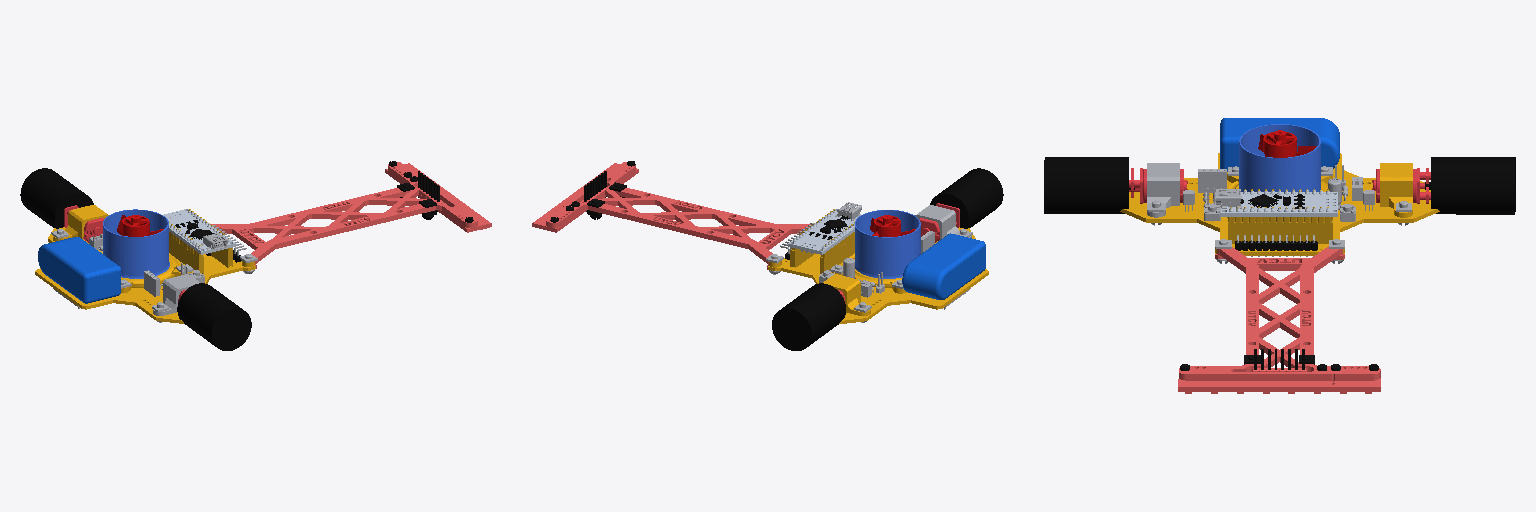
URDF robot description (Untitled):
<?xml version='1.0' encoding='utf-8'?>
<!--
  Line follower robot.

  Frames:
    base_link  = centre of the wheel axle, +x = FRONT (the sensor-bar end), +y = left, z up.
    body_link  = the original CAD frame of the meshes. It is turned 180 degrees
                 relative to base_link (see body_joint), which is why the meshes,
                 wheels and casters below are written in the old CAD coordinates.
    Everything is merged into one rigid body by Gazebo (fixed joints are lumped).

  Dimensions measured from the STL meshes:
    wheel radius = 0.0105 m, wheel width = 0.0333 m,
    wheel separation (centre to centre) = 0.140 m,
    ground level = 0.0105 m below base_link (bottom of the wheels).

  Wheel direction:
    Both wheel joints are set up so that a POSITIVE velocity drives the robot
    toward the sensor bar (+x of base_link).

  Casters:
    Two ball casters (caster_pos_x / caster_neg_x) sit under the two ends of the board,
    on its centre line (y = -0.0129), so the robot rests on 4 points.
-->
<robot name="Untitled">

    <!-- ===================== COLOURS ===================== -->
    <material name="c_arm">          <color rgba="0.96 0.42 0.42 1" /></material>  <!-- sensor bar + truss arm -->
    <material name="c_pcb">          <color rgba="0.96 0.72 0.12 1" /></material>  <!-- main yellow board -->
    <material name="c_motors">       <color rgba="0.92 0.30 0.34 1" /></material>
    <material name="c_battery">      <color rgba="0.12 0.45 0.90 1" /></material>
    <material name="c_fan_housing">  <color rgba="0.30 0.50 0.95 0.6" /></material>  <!-- translucent blue -->
    <material name="c_fan_impeller"> <color rgba="0.85 0.10 0.10 1" /></material>
    <material name="c_fan_base">     <color rgba="0.85 0.12 0.12 1" /></material>
    <material name="c_nano_board">   <color rgba="0.80 0.84 0.90 1" /></material>
    <material name="c_black">        <color rgba="0.10 0.10 0.10 1" /></material>
    <material name="c_gold">         <color rgba="0.85 0.65 0.13 1" /></material>
    <material name="c_silver">       <color rgba="0.72 0.73 0.76 1" /></material>

    <!-- ===================== BASE ===================== -->
    <!-- Root frame: centre of the wheel axle, +x pointing to the sensor bar -->
    <link name="base_link" />

    <!-- body_link (CAD frame) is turned 180 deg about z and moved so base_link sits at the axle centre -->
    <joint name="body_joint" type="fixed">
        <parent link="base_link" />
        <child link="body_link" />
        <origin xyz="0.06586035 -0.01294921 -0.00278078" rpy="0 0 3.14159265359" />
    </joint>

    <link name="body_link">
        <inertial>
            <origin xyz="0.0497100684 -0.0129209646 0.00202155445" rpy="0 0 0" />
            <mass value="0.0466385593" />
            <inertia ixx="2.70721052e-05" iyy="1.46734543e-04" izz="1.71141810e-04"
                     ixy="-1.06437045e-06" iyz="-6.15719036e-08" ixz="-4.31754903e-06" />
        </inertial>
        <!-- The body mesh was split into one STL per colour (meshes/base_<part>.stl).
             All parts share the original mesh frame, so they use the same origin
             and together are identical to the old meshes/base_link.stl. -->
        <visual name="base_arm_visual">
            <origin xyz="0.0407051062 -0.0161456168 -0.00761921847" rpy="0 0 0" />
            <geometry><mesh filename="meshes/base_arm.stl" scale="0.001 0.001 0.001" /></geometry>
            <material name="c_arm" />
        </visual>
        <visual name="base_pcb_visual">
            <origin xyz="0.0407051062 -0.0161456168 -0.00761921847" rpy="0 0 0" />
            <geometry><mesh filename="meshes/base_pcb.stl" scale="0.001 0.001 0.001" /></geometry>
            <material name="c_pcb" />
        </visual>
        <visual name="base_motors_visual">
            <origin xyz="0.0407051062 -0.0161456168 -0.00761921847" rpy="0 0 0" />
            <geometry><mesh filename="meshes/base_motors.stl" scale="0.001 0.001 0.001" /></geometry>
            <material name="c_motors" />
        </visual>
        <visual name="base_battery_visual">
            <origin xyz="0.0407051062 -0.0161456168 -0.00761921847" rpy="0 0 0" />
            <geometry><mesh filename="meshes/base_battery.stl" scale="0.001 0.001 0.001" /></geometry>
            <material name="c_battery" />
        </visual>
        <visual name="base_fan_housing_visual">
            <origin xyz="0.0407051062 -0.0161456168 -0.00761921847" rpy="0 0 0" />
            <geometry><mesh filename="meshes/base_fan_housing.stl" scale="0.001 0.001 0.001" /></geometry>
            <material name="c_fan_housing" />
        </visual>
        <visual name="base_fan_impeller_visual">
            <origin xyz="0.0407051062 -0.0161456168 -0.00761921847" rpy="0 0 0" />
            <geometry><mesh filename="meshes/base_fan_impeller.stl" scale="0.001 0.001 0.001" /></geometry>
            <material name="c_fan_impeller" />
        </visual>
        <visual name="base_fan_base_visual">
            <origin xyz="0.0407051062 -0.0161456168 -0.00761921847" rpy="0 0 0" />
            <geometry><mesh filename="meshes/base_fan_base.stl" scale="0.001 0.001 0.001" /></geometry>
            <material name="c_fan_base" />
        </visual>
        <visual name="base_nano_board_visual">
            <origin xyz="0.0407051062 -0.0161456168 -0.00761921847" rpy="0 0 0" />
            <geometry><mesh filename="meshes/base_nano_board.stl" scale="0.001 0.001 0.001" /></geometry>
            <material name="c_nano_board" />
        </visual>
        <visual name="base_black_visual">
            <origin xyz="0.0407051062 -0.0161456168 -0.00761921847" rpy="0 0 0" />
            <geometry><mesh filename="meshes/base_black.stl" scale="0.001 0.001 0.001" /></geometry>
            <material name="c_black" />
        </visual>
        <visual name="base_gold_visual">
            <origin xyz="0.0407051062 -0.0161456168 -0.00761921847" rpy="0 0 0" />
            <geometry><mesh filename="meshes/base_gold.stl" scale="0.001 0.001 0.001" /></geometry>
            <material name="c_gold" />
        </visual>
        <visual name="base_silver_visual">
            <origin xyz="0.0407051062 -0.0161456168 -0.00761921847" rpy="0 0 0" />
            <geometry><mesh filename="meshes/base_silver.stl" scale="0.001 0.001 0.001" /></geometry>
            <material name="c_silver" />
        </visual>

        <!-- The body mesh is NOT used for collision: its underside sits at the same
             height as the bottom of the wheels, so it would drag on the ground.
             Two small ball casters replace it as the 3rd/4th support points. -->
        <collision name="caster_neg_x_collision">
            <origin xyz="-0.09 -0.0129 -0.0046" rpy="0 0 0" />
            <geometry>
                <sphere radius="0.003" />
            </geometry>
        </collision>
        <collision name="caster_pos_x_collision">
            <origin xyz="0.095 -0.0129 -0.0046" rpy="0 0 0" />
            <geometry>
                <sphere radius="0.003" />
            </geometry>
        </collision>
        <visual name="caster_neg_x_visual">
            <origin xyz="-0.09 -0.0129 -0.0046" rpy="0 0 0" />
            <geometry>
                <sphere radius="0.003" />
            </geometry>
            <material name="caster_material">
                <color rgba="0.7 0.7 0.7 1" />
            </material>
        </visual>
        <visual name="caster_pos_x_visual">
            <origin xyz="0.095 -0.0129 -0.0046" rpy="0 0 0" />
            <geometry>
                <sphere radius="0.003" />
            </geometry>
            <material name="caster_material">
                <color rgba="0.7 0.7 0.7 1" />
            </material>
        </visual>
    </link>

    <!-- ===================== RIGHT WHEEL ===================== -->
    <link name="right_wheel_1">
        <inertial>
            <origin xyz="-1.1737347e-07 -9.4239375e-09 0.0179253936" rpy="0 0 0" />
            <mass value="0.0106464006" />
            <inertia ixx="1.13505775e-06" iyy="1.13505656e-06" izz="5.89875705e-07"
                     ixy="1.1605346e-13" iyz="-1.7808156e-12" ixz="-1.8415707e-11" />
        </inertial>
        <visual name="right_wheel_1_visual">
            <origin xyz="0.0251530744 -0.0103999985 -0.0612858878" rpy="1.5707963268 -0.000674994428 3.14159265359" />
            <geometry>
                <mesh filename="meshes/right_wheel_1.stl" scale="0.001 0.001 0.001" />
            </geometry>
            <material name="wheel_material">
                <color rgba="0.08 0.08 0.08 1" />
            </material>
        </visual>
        <collision name="right_wheel_1_collision">
            <origin xyz="0.0251530744 -0.0103999985 -0.0612858878" rpy="1.5707963268 -0.000674994428 3.14159265359" />
            <geometry>
                <mesh filename="meshes/right_wheel_1.stl" scale="0.001 0.001 0.001" />
            </geometry>
        </collision>
    </link>

    <!-- ===================== LEFT WHEEL ===================== -->
    <link name="left_wheel_1">
        <inertial>
            <origin xyz="-1.15095803e-07 -1.24765479e-08 0.0179253894" rpy="0 0 0" />
            <mass value="0.0106464006" />
            <inertia ixx="1.13505775e-06" iyy="1.13505656e-06" izz="5.89875705e-07"
                     ixy="1.1605346e-13" iyz="-1.7808156e-12" ixz="-1.8415707e-11" />
        </inertial>
        <visual name="left_wheel_1_visual">
            <origin xyz="0.0251530767 0.0103999985 -0.0548591165" rpy="-1.5707963268 0.000674994428 3.14159265359" />
            <geometry>
                <mesh filename="meshes/left_wheel_1.stl" scale="0.001 0.001 0.001" />
            </geometry>
            <material name="wheel_material">
                <color rgba="0.08 0.08 0.08 1" />
            </material>
        </visual>
        <collision name="left_wheel_1_collision">
            <origin xyz="0.0251530767 0.0103999985 -0.0548591165" rpy="-1.5707963268 0.000674994428 3.14159265359" />
            <geometry>
                <mesh filename="meshes/left_wheel_1.stl" scale="0.001 0.001 0.001" />
            </geometry>
        </collision>
    </link>

    <!-- ===================== JOINTS ===================== -->
    <!-- Right wheel (positions are in body_link / CAD coordinates).
         Axis flipped so that positive rotation drives toward the sensor bar. -->
    <joint name="right_wheel_joint" type="continuous">
        <origin xyz="0.06589637 0.04042328 0.00278078" rpy="1.5707963268 0 3.14091765916" />
        <parent link="body_link" />
        <child link="right_wheel_1" />
        <axis xyz="0 0 -1" />
        <dynamics damping="0.0005" friction="0.0" />
    </joint>

    <!-- Left wheel: same, so both wheels drive toward the sensor bar for positive velocity -->
    <joint name="left_wheel_joint" type="continuous">
        <origin xyz="0.06582432 -0.0663217 0.00278078" rpy="-1.5707963268 0 3.14091765916" />
        <parent link="body_link" />
        <child link="left_wheel_1" />
        <axis xyz="0 0 1" />
        <dynamics damping="0.0005" friction="0.0" />
    </joint>

    <!-- ===================== GAZEBO SURFACE PROPERTIES ===================== -->
    <!-- body_link only collides through the caster balls: make them frictionless -->
    <gazebo reference="body_link">
        <mu1>0.0</mu1>
        <mu2>0.0</mu2>
    </gazebo>
    <gazebo reference="right_wheel_1">
        <mu1>1.0</mu1>
        <mu2>1.0</mu2>
    </gazebo>
    <gazebo reference="left_wheel_1">
        <mu1>1.0</mu1>
        <mu2>1.0</mu2>
    </gazebo>

    <!-- ===================== LINE SENSOR ARRAY ===================== -->
    <!-- Virtual line sensor: a small camera looking straight down at the floor just
         in front of the sensor bar. The node line_sensor_node.py reads this image
         and turns it into an N-element reflectance array (like a QTR sensor bar).
         Camera frame: x = down, image up = +x (front), image left = +y (robot left).
         Footprint on the floor is ~80 mm wide, which covers the 74 mm bar. -->
    <link name="camera_link" />
    <joint name="camera_joint" type="fixed">
        <parent link="base_link" />
        <child link="camera_link" />
        <origin xyz="0.178 0 0.0372" rpy="0 1.5707963268 0" />
    </joint>

    <gazebo reference="camera_link">
        <sensor name="line_camera" type="camera">
            <always_on>true</always_on>
            <update_rate>60</update_rate>
            <topic>line_camera/image</topic>
            <camera>
                <horizontal_fov>1.396</horizontal_fov>
                <image>
                    <width>160</width>
                    <height>16</height>
                    <format>R8G8B8</format>
                </image>
                <clip>
                    <near>0.01</near>
                    <far>0.5</far>
                </clip>
            </camera>
        </sensor>
    </gazebo>

    <!-- ===================== GAZEBO PLUGINS ===================== -->
    <gazebo>
        <!-- Differential drive: listens to /cmd_vel (geometry_msgs/Twist), publishes /odom and odom->base_link TF.
             Forward = +x of base_link = the sensor-bar end. -->
        <plugin filename="ignition-gazebo-diff-drive-system" name="ignition::gazebo::systems::DiffDrive">
            <left_joint>left_wheel_joint</left_joint>
            <right_joint>right_wheel_joint</right_joint>
            <wheel_separation>0.140</wheel_separation>
            <wheel_radius>0.0105</wheel_radius>
            <max_linear_acceleration>1.0</max_linear_acceleration>
            <max_angular_acceleration>3.0</max_angular_acceleration>
            <topic>cmd_vel</topic>
            <odom_topic>odom</odom_topic>
            <tf_topic>tf</tf_topic>
            <frame_id>odom</frame_id>
            <child_frame_id>base_link</child_frame_id>
            <odom_publisher_frequency>30</odom_publisher_frequency>
        </plugin>

        <!-- Publishes the wheel joint angles so robot_state_publisher can animate the wheels in TF -->
        <plugin filename="ignition-gazebo-joint-state-publisher-system" name="ignition::gazebo::systems::JointStatePublisher">
            <topic>joint_states</topic>
        </plugin>
    </gazebo>
</robot>

--- What the picture shows (computed from the rendered views, not written in the file) ---
Views: 3 orthographic renders of the robot side by side, from view 1: azimuth 30°, elevation 25°; view 2: azimuth 150°, elevation 25°; view 3: azimuth 270°, elevation 25°.
Model Untitled with 5 links and 4 joints (2 continuous, 2 fixed), rooted at base_link, posed every joint at zero.
Visible links, largest first — view 1: body_link, right_wheel_1, left_wheel_1; view 2: body_link, left_wheel_1, right_wheel_1; view 3: body_link, left_wheel_1, right_wheel_1.
Link boxes in pixels (x1,y1,x2,y2): body_link: (35,161,491,323); right_wheel_1: (177,283,251,350); left_wheel_1: (20,168,93,228); body_link: (532,161,988,323); left_wheel_1: (772,283,845,350); right_wheel_1: (930,168,1003,228); body_link: (1120,118,1439,393); left_wheel_1: (1425,157,1515,214); right_wheel_1: (1044,157,1134,213).
Bounding box of the posed robot: 0.205 × 0.1734 × 0.0343 m (x, y, z).
13 mesh visuals loaded from 13 distinct referenced files (13 binary STL).
